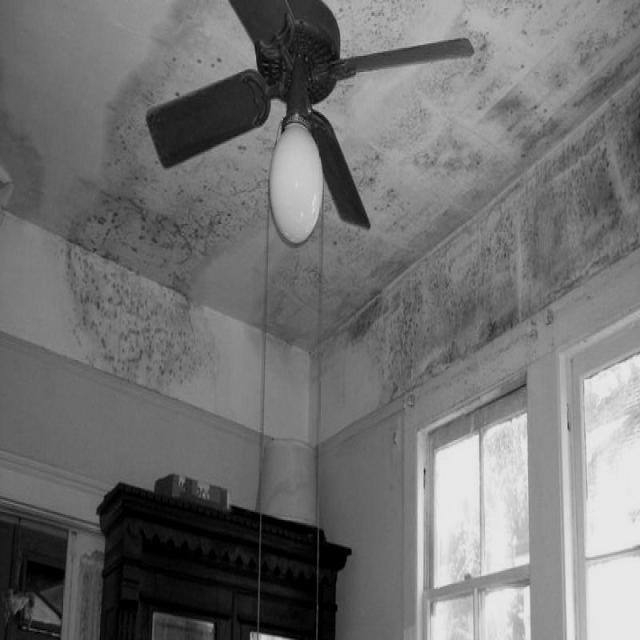stain marks: (269, 0, 637, 393), (55, 168, 242, 408), (101, 0, 257, 167), (0, 96, 45, 279)
